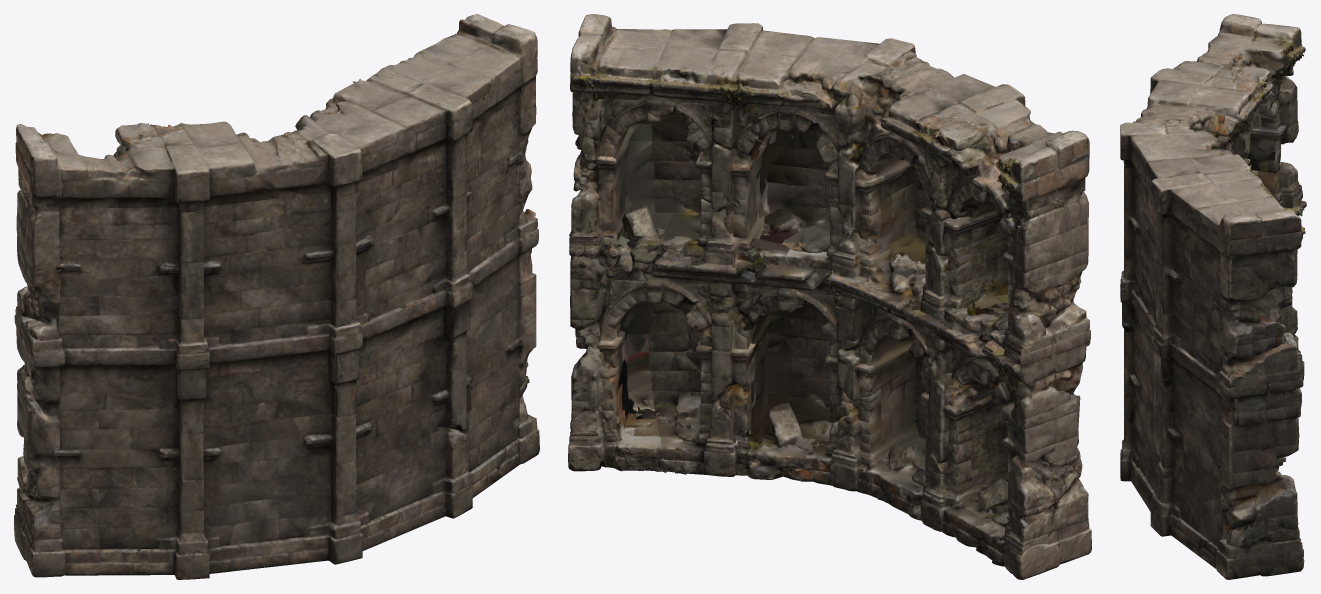
The model's file is Dungeon_wall.glb.
3 renders of one model, left to right at view 1: azimuth 30°, elevation 25°; view 2: azimuth 150°, elevation 25°; view 3: azimuth 270°, elevation 25°, orthographic. The views are drawn at different scales.
Parts seen in each view (by area): view 1: YVO3D.obj; view 2: YVO3D.obj; view 3: YVO3D.obj.
Part boxes in pixels (x1=…): YVO3D.obj: x1=14, y1=14, x2=539, y2=579; YVO3D.obj: x1=568, y1=14, x2=1091, y2=579; YVO3D.obj: x1=1120, y1=14, x2=1306, y2=579.
Bounding box in the file's own units: 0.9797 × 0.7796 × 0.3663.
1 material, 1 textured.
